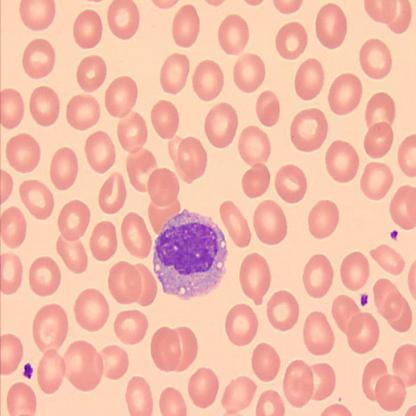Monocyte: (150, 207, 230, 300)
